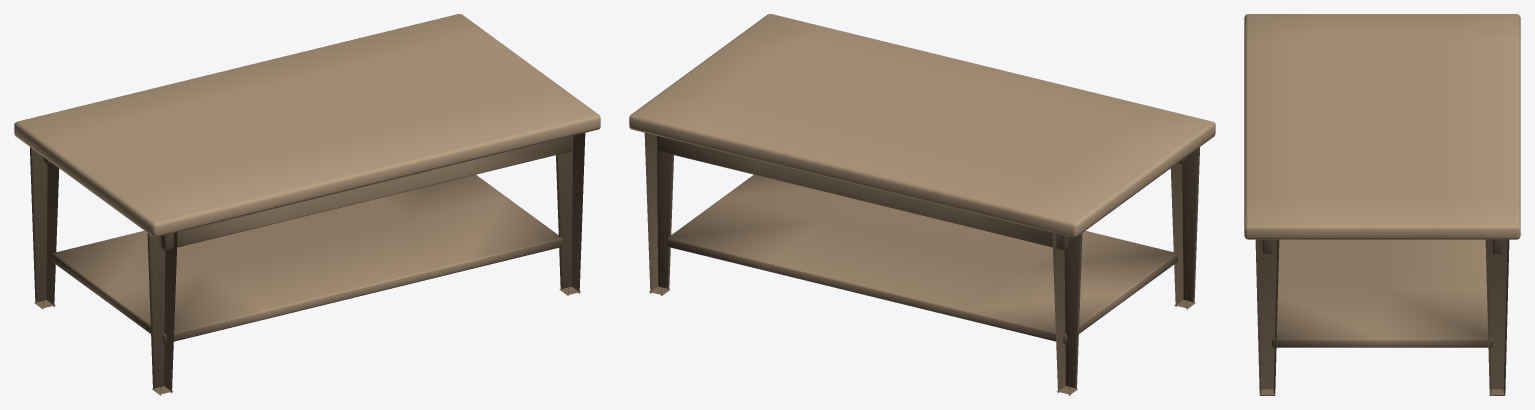
File: coffee.glb
The picture shows the model from 3 angles, left to right: view 1: azimuth 30°, elevation 25°; view 2: azimuth 150°, elevation 25°; view 3: azimuth 270°, elevation 25°; orthographic projection. The views are drawn at different scales.
Visible parts, largest first — view 1: p_coffee; view 2: p_coffee; view 3: p_coffee.
Boxes of the visible parts, left/top/right/bottom form: p_coffee: left=14, top=14, right=600, bottom=395; p_coffee: left=629, top=14, right=1215, bottom=395; p_coffee: left=1244, top=14, right=1520, bottom=395.
Size of the model in its own units: 1.1 by 0.4236 by 0.6.
